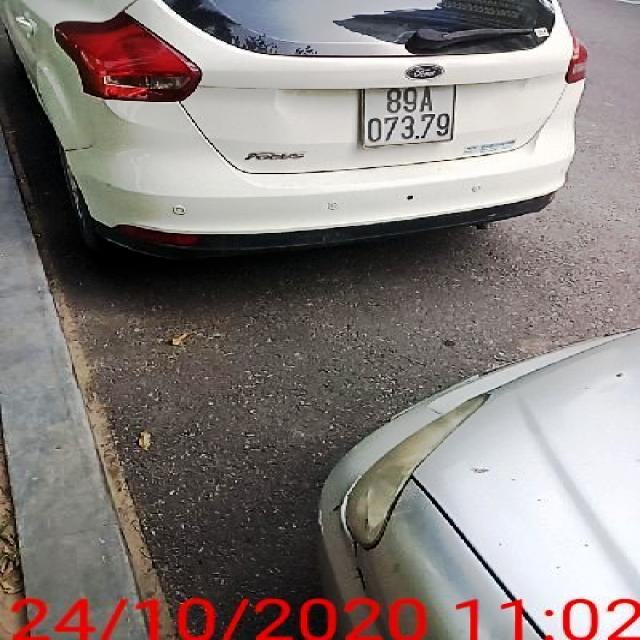license_plate: (363, 87, 456, 150)
